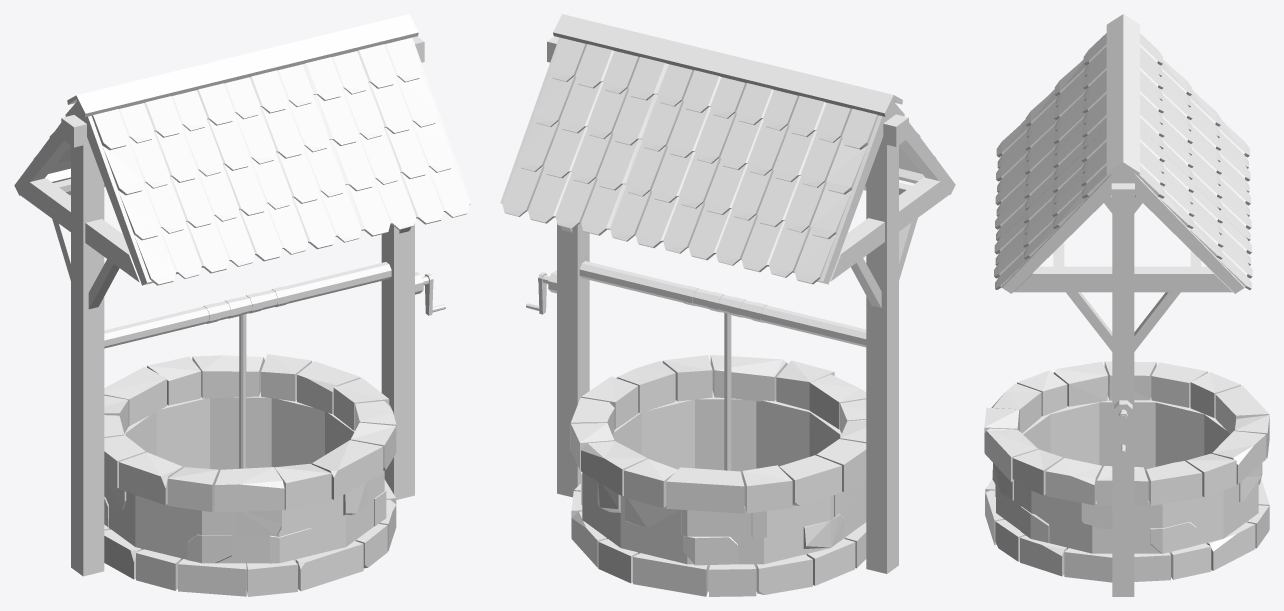
The model's file is Bld_Well_02.glb.
3 views of the same model, side by side, from view 1: azimuth 30°, elevation 25°; view 2: azimuth 150°, elevation 25°; view 3: azimuth 270°, elevation 25° (orthographic). The views are drawn at different scales.
Parts seen in each view (by area): view 1: Bld_Well_02, Bld_Well_Crank_02; view 2: Bld_Well_02, Bld_Well_Crank_02; view 3: Bld_Well_02, Bld_Well_Crank_02.
Boxes of the visible parts, x1,y1,x2,y2 form: Bld_Well_02: [14, 14, 471, 596]; Bld_Well_Crank_02: [415, 271, 445, 315]; Bld_Well_02: [500, 14, 955, 596]; Bld_Well_Crank_02: [526, 270, 556, 314]; Bld_Well_02: [984, 14, 1269, 596]; Bld_Well_Crank_02: [1114, 400, 1132, 454].
Bounding box in the file's own units: 2.67 × 3.23 × 1.92.
Materials: 1 (1 with a texture image).
